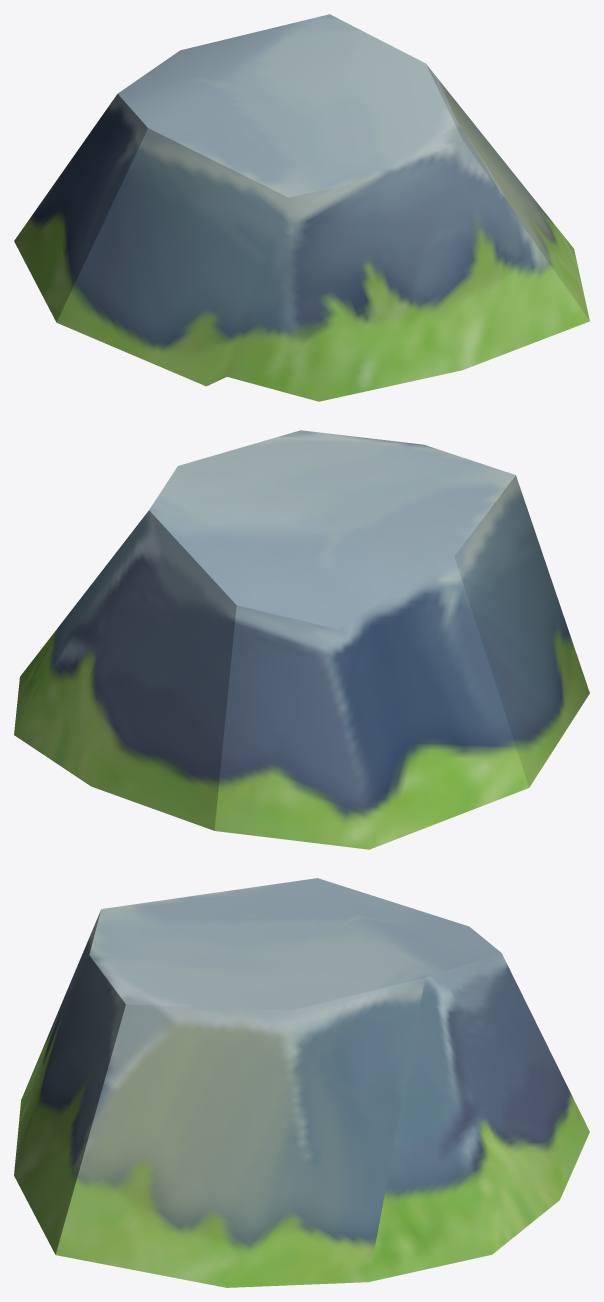
File: sucai_07.FBX
The picture shows the model from 3 angles, top to bottom: view 1: azimuth 30°, elevation 25°; view 2: azimuth 150°, elevation 25°; view 3: azimuth 270°, elevation 25°; orthographic projection. The views are drawn at different scales.
Visible parts, largest first — view 1: sucai_07; view 2: sucai_07; view 3: sucai_07.
Boxes of the visible parts, x1,y1,x2,y2 form: sucai_07: [14, 14, 589, 401]; sucai_07: [14, 430, 589, 849]; sucai_07: [14, 878, 589, 1287].
Bounding box in the file's own units: 192 × 81.79 × 187.
